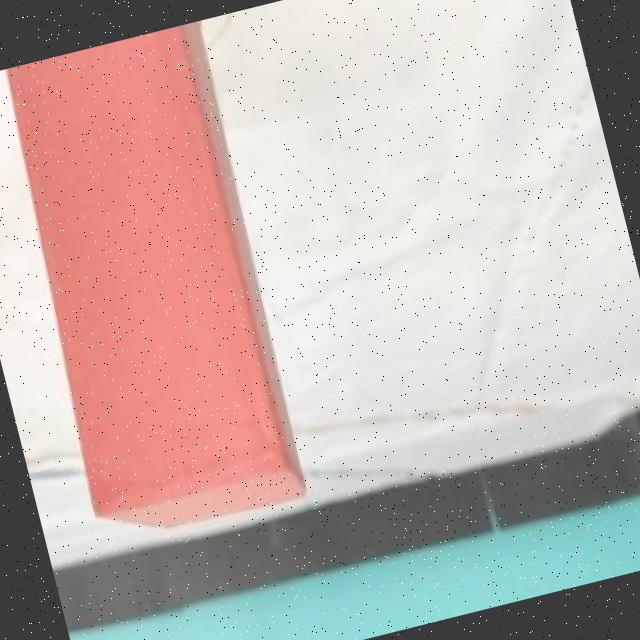redbox: (8, 24, 304, 538)
